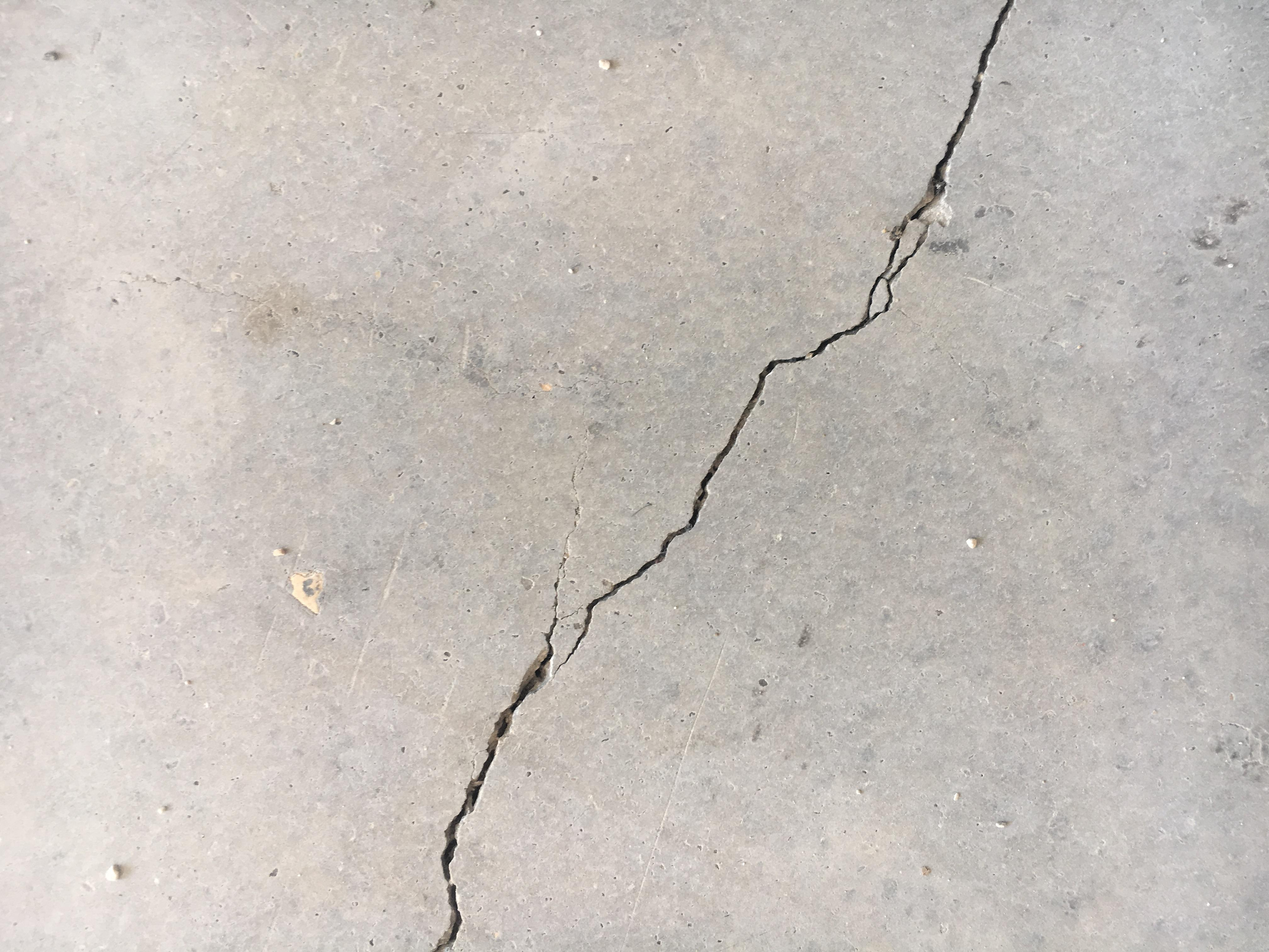Vertical Crack: (428, 2, 1018, 948)
